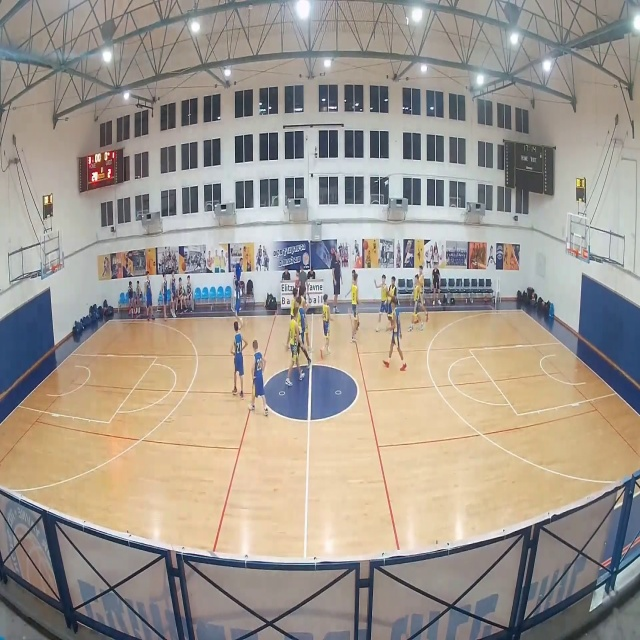Hoop: (381, 300, 407, 371), (285, 308, 305, 388), (563, 211, 591, 265), (290, 296, 311, 367), (251, 338, 269, 418), (40, 226, 65, 282), (230, 320, 248, 396), (317, 293, 335, 359), (373, 271, 393, 330), (345, 275, 361, 343), (408, 276, 425, 332), (413, 266, 430, 320), (386, 277, 400, 326)
